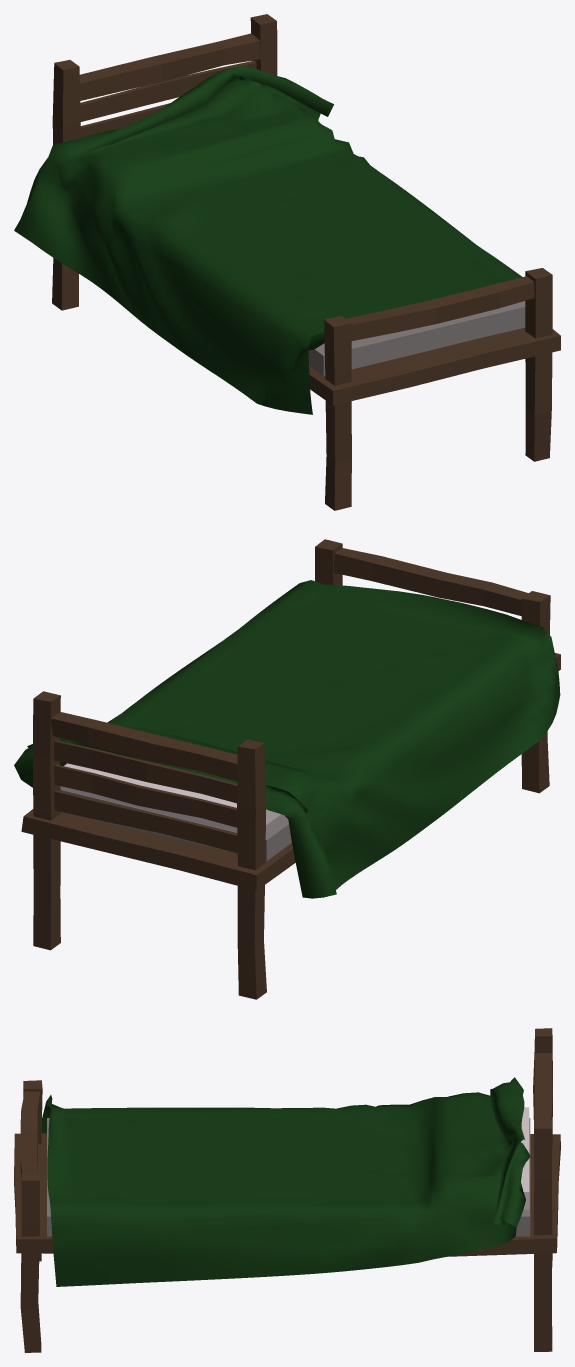
Rendered from bed.fbx.
3 views of the same model, one above another, from view 1: azimuth 30°, elevation 25°; view 2: azimuth 150°, elevation 25°; view 3: azimuth 270°, elevation 25° (orthographic). The views are drawn at different scales.
Parts seen in each view (by area): view 1: Bed.Sheet, Bed.Frame, Bed.Mattress; view 2: Bed.Sheet, Bed.Frame, Bed.Pillow, Bed.Mattress; view 3: Bed.Sheet, Bed.Frame, Bed.Mattress, Bed.Pillow.
Part boxes in pixels (left/top/right/bottom): Bed.Sheet: left=14, top=66, right=522, bottom=414; Bed.Frame: left=52, top=14, right=560, bottom=510; Bed.Mattress: left=308, top=301, right=525, bottom=376; Bed.Sheet: left=14, top=580, right=560, bottom=898; Bed.Frame: left=21, top=539, right=560, bottom=999; Bed.Pillow: left=60, top=763, right=280, bottom=832; Bed.Mattress: left=60, top=789, right=291, bottom=860; Bed.Sheet: left=41, top=1077, right=530, bottom=1286; Bed.Frame: left=14, top=1028, right=560, bottom=1352; Bed.Mattress: left=47, top=1118, right=530, bottom=1236; Bed.Pillow: left=521, top=1107, right=529, bottom=1209.
Size of the model in its own units: 111 by 82.64 by 181.
